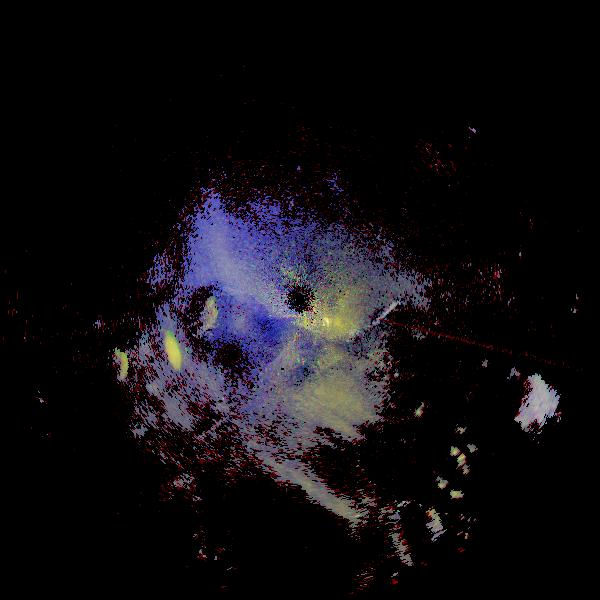roost: (99, 308, 210, 419), (161, 287, 230, 356)
